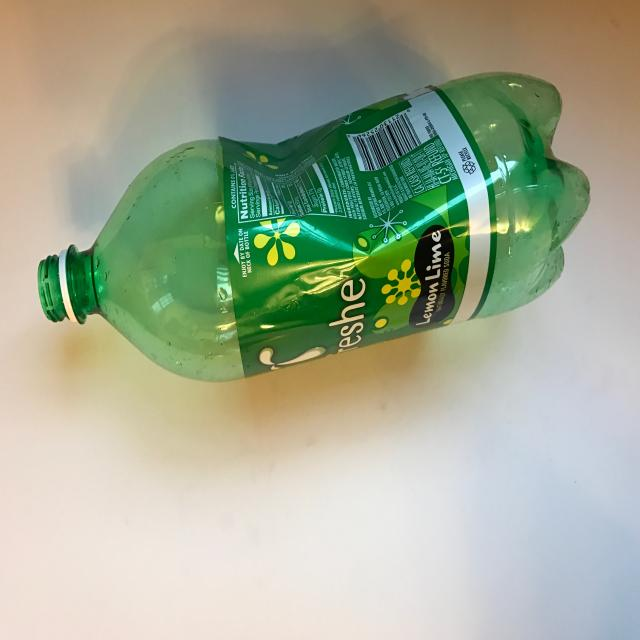plastic: (37, 69, 591, 383)
